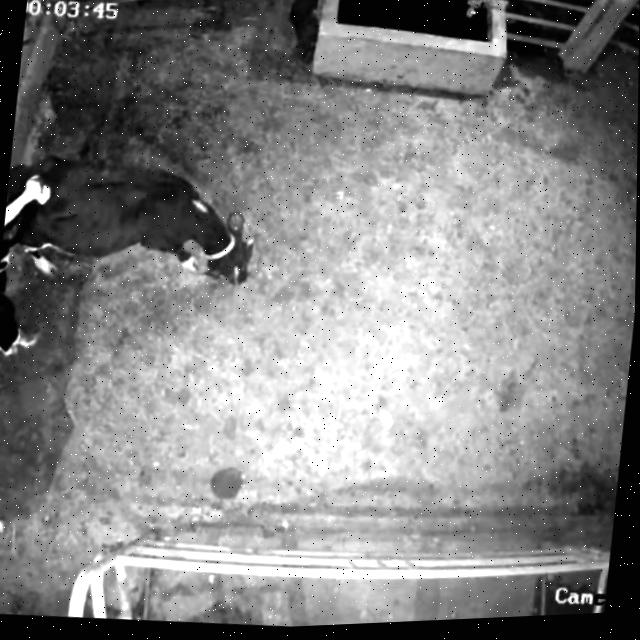propping: (0, 157, 76, 292)
